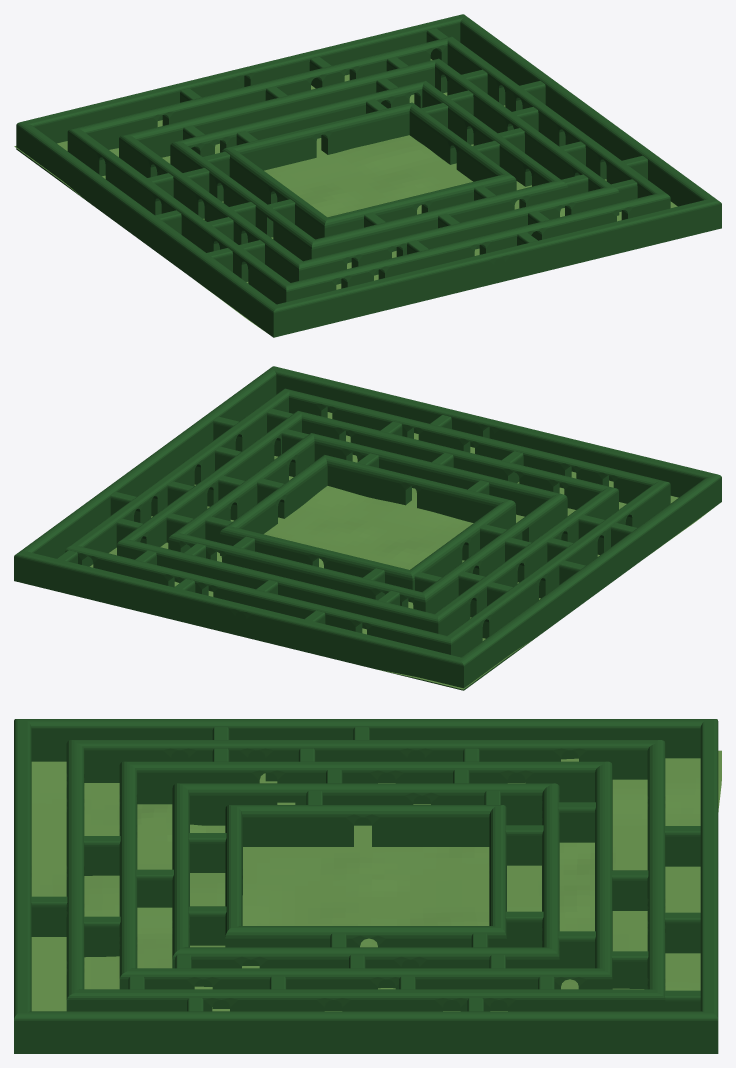
Rendered from Maze 8.fbx.
3 views of the same model, one above another, from view 1: azimuth 30°, elevation 25°; view 2: azimuth 150°, elevation 25°; view 3: azimuth 270°, elevation 25° (orthographic). The views are drawn at different scales.
Parts seen in each view (by area): view 1: Walls 1.008, Walls 2.008, Walls 3.008, Walls 4.009, Walls 5.008, Floor.009; view 2: Walls 1.008, Walls 2.008, Walls 3.008, Walls 4.009, Walls 5.008, Floor.009; view 3: Walls 1.008, Floor.009, Walls 2.008, Walls 3.008, Walls 4.009, Walls 5.008, Bush Blocker.225, Bush Blocker.222, Bush Blocker.228, Bush Blocker.219, Bush Blocker.214, Bush Blocker.227 (+9 smaller).
Part boxes in pixels (<box>): Walls 1.008: <box>16,14,721,337</box>; Walls 2.008: <box>67,36,670,304</box>; Walls 3.008: <box>119,58,619,284</box>; Walls 4.009: <box>170,80,567,263</box>; Walls 5.008: <box>222,102,516,239</box>; Floor.009: <box>14,59,677,331</box>; Walls 1.008: <box>14,366,721,690</box>; Walls 2.008: <box>65,388,670,657</box>; Walls 3.008: <box>117,411,618,635</box>; Walls 4.009: <box>168,433,567,613</box>; Walls 5.008: <box>220,455,515,602</box>; Floor.009: <box>90,412,714,689</box>; Walls 1.008: <box>14,719,718,1053</box>; Floor.009: <box>31,750,721,1011</box>; Walls 2.008: <box>66,740,665,1011</box>; Walls 3.008: <box>119,761,612,1010</box>; Walls 4.009: <box>172,783,559,988</box>; Walls 5.008: <box>225,805,506,968</box>; Bush Blocker.225: <box>665,912,700,953</box>; Bush Blocker.222: <box>558,802,595,842</box>; Bush Blocker.228: <box>611,870,648,910</box>; Bush Blocker.219: <box>84,916,120,957</box>; Bush Blocker.214: <box>31,896,67,936</box>; Bush Blocker.227: <box>665,826,700,866</box>.
Size of the model in its own units: 6009 by 368 by 5992.
